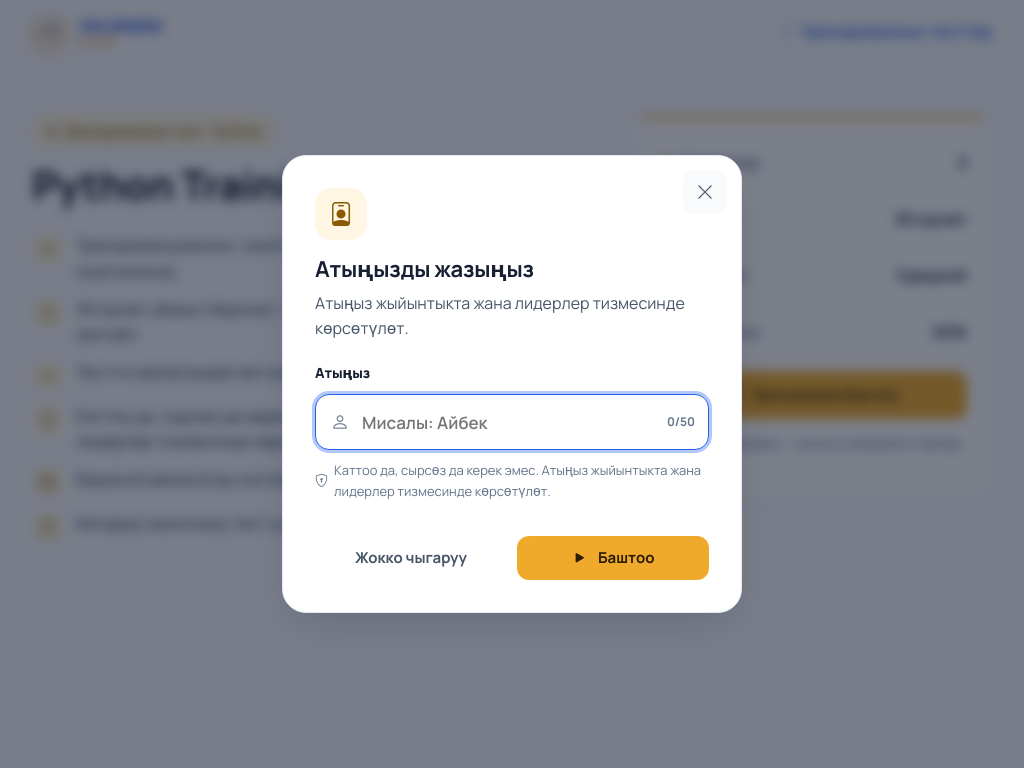
Test: training flow (through the API layer) › shows the backend’s reason when it rejects the name
This screenshot has width=1024, height=768.
Type "I" into the field labelled "Атыңыз" at (512, 422), box [315, 394, 709, 450]
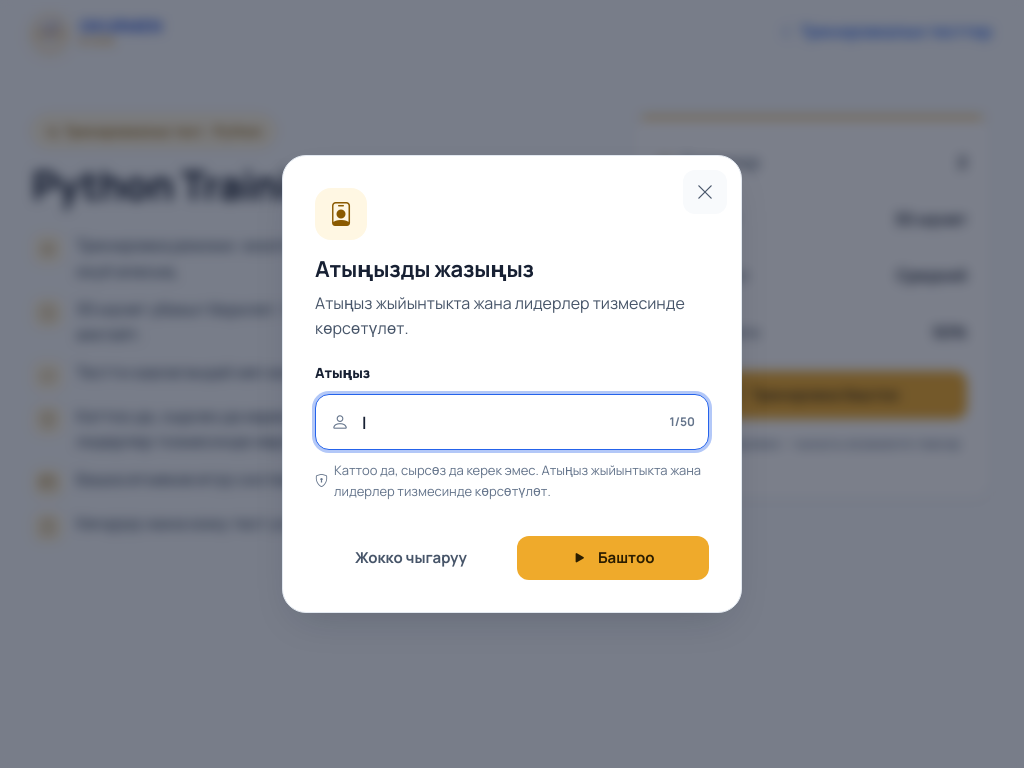
Click the button "Баштоо" at (613, 558), box [517, 536, 709, 580]
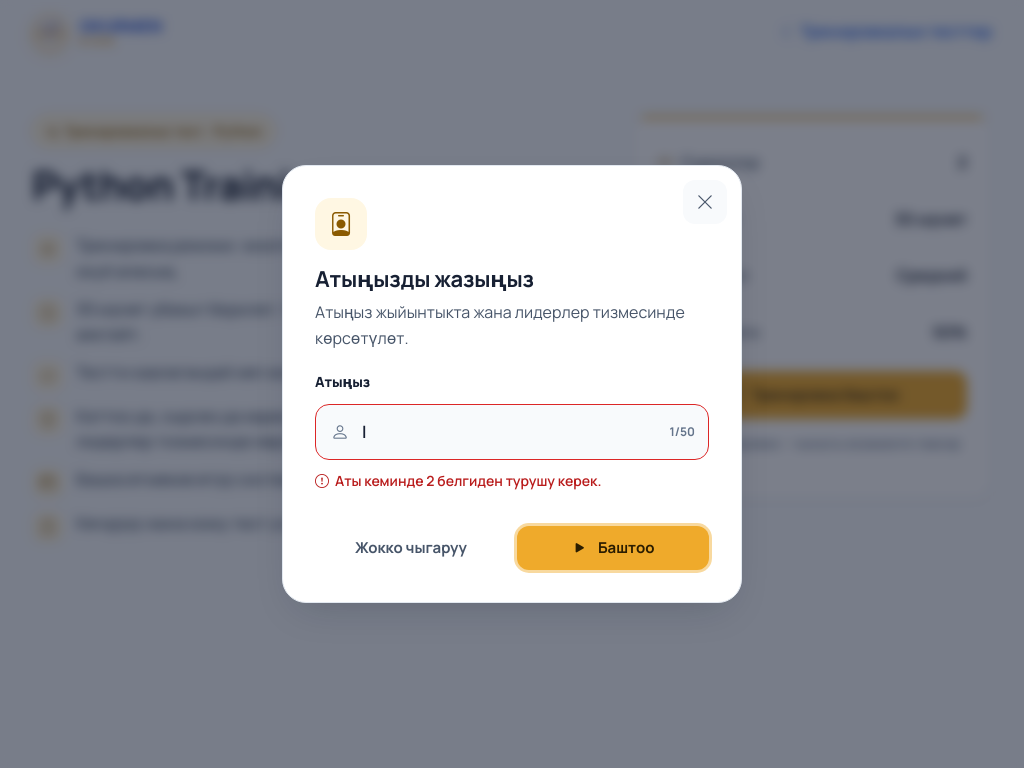
Check: the message shows "кеминде 2", box [335, 471, 602, 490]
